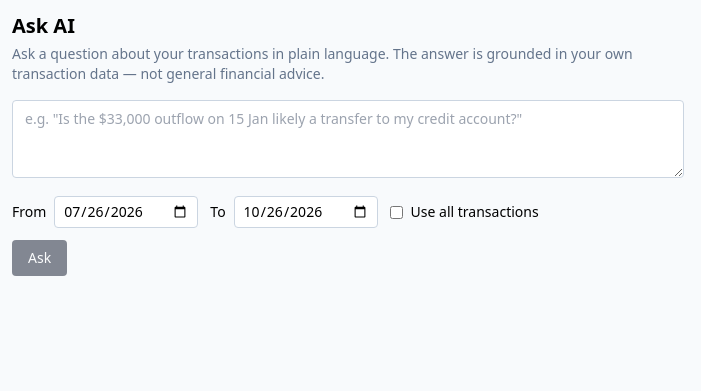
it: AskAiPage › sends useAllTransactions and omits the date range when the checkbox is checked
The image size is (701, 391).
Type "Anything unusual ever?" into the text box with test id "ask-ai-question-input" at (348, 139), box [12,100,684,178]
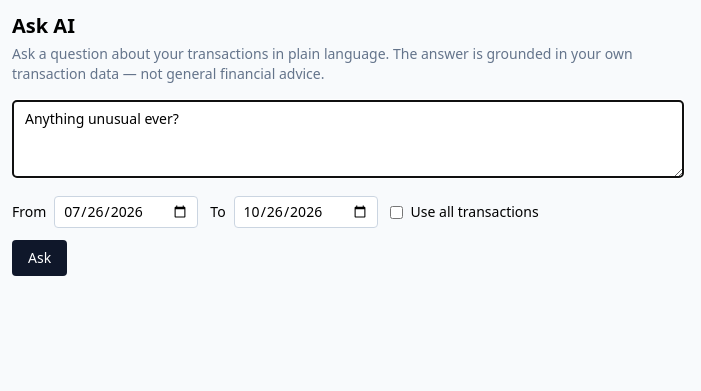
Click the checkbox with test id "ask-ai-use-all-transactions" at (396, 212), box [390,206,403,218]
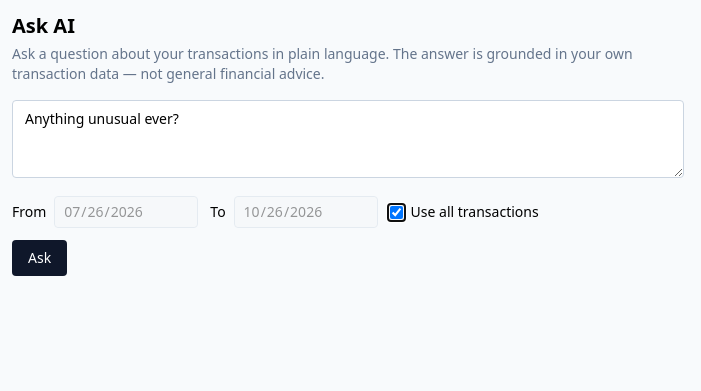
Click the button with test id "ask-ai-submit" at (40, 258), box [12,240,67,276]
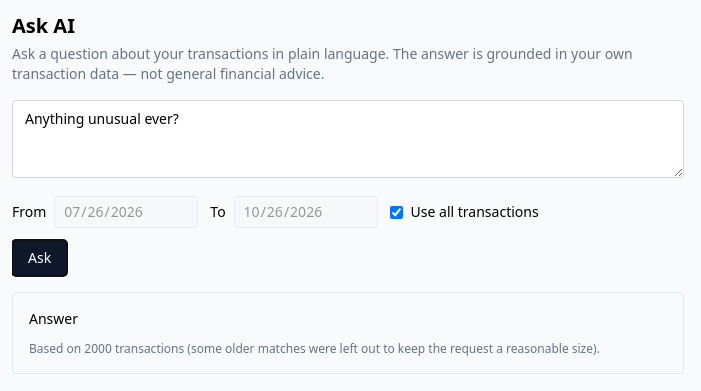
Check: the element with test id "ask-ai-answer" shows "some older matches were left out to keep the request a reasonable size", box [184,340,597,357]
